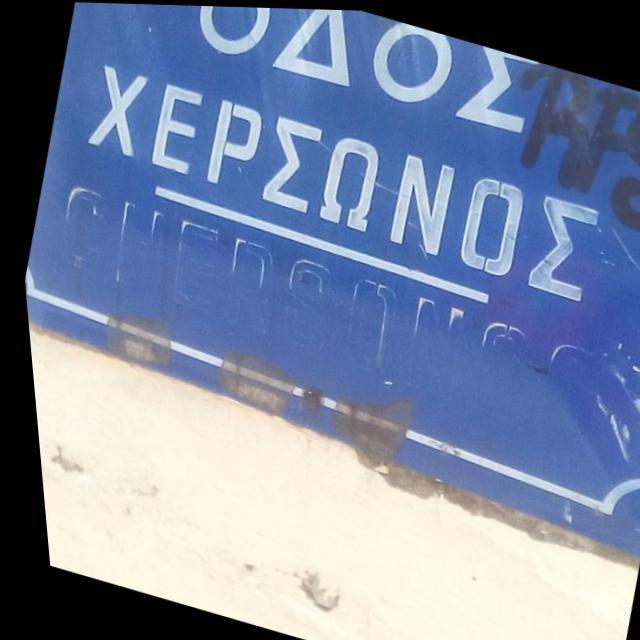-: (484, 52, 640, 240)
